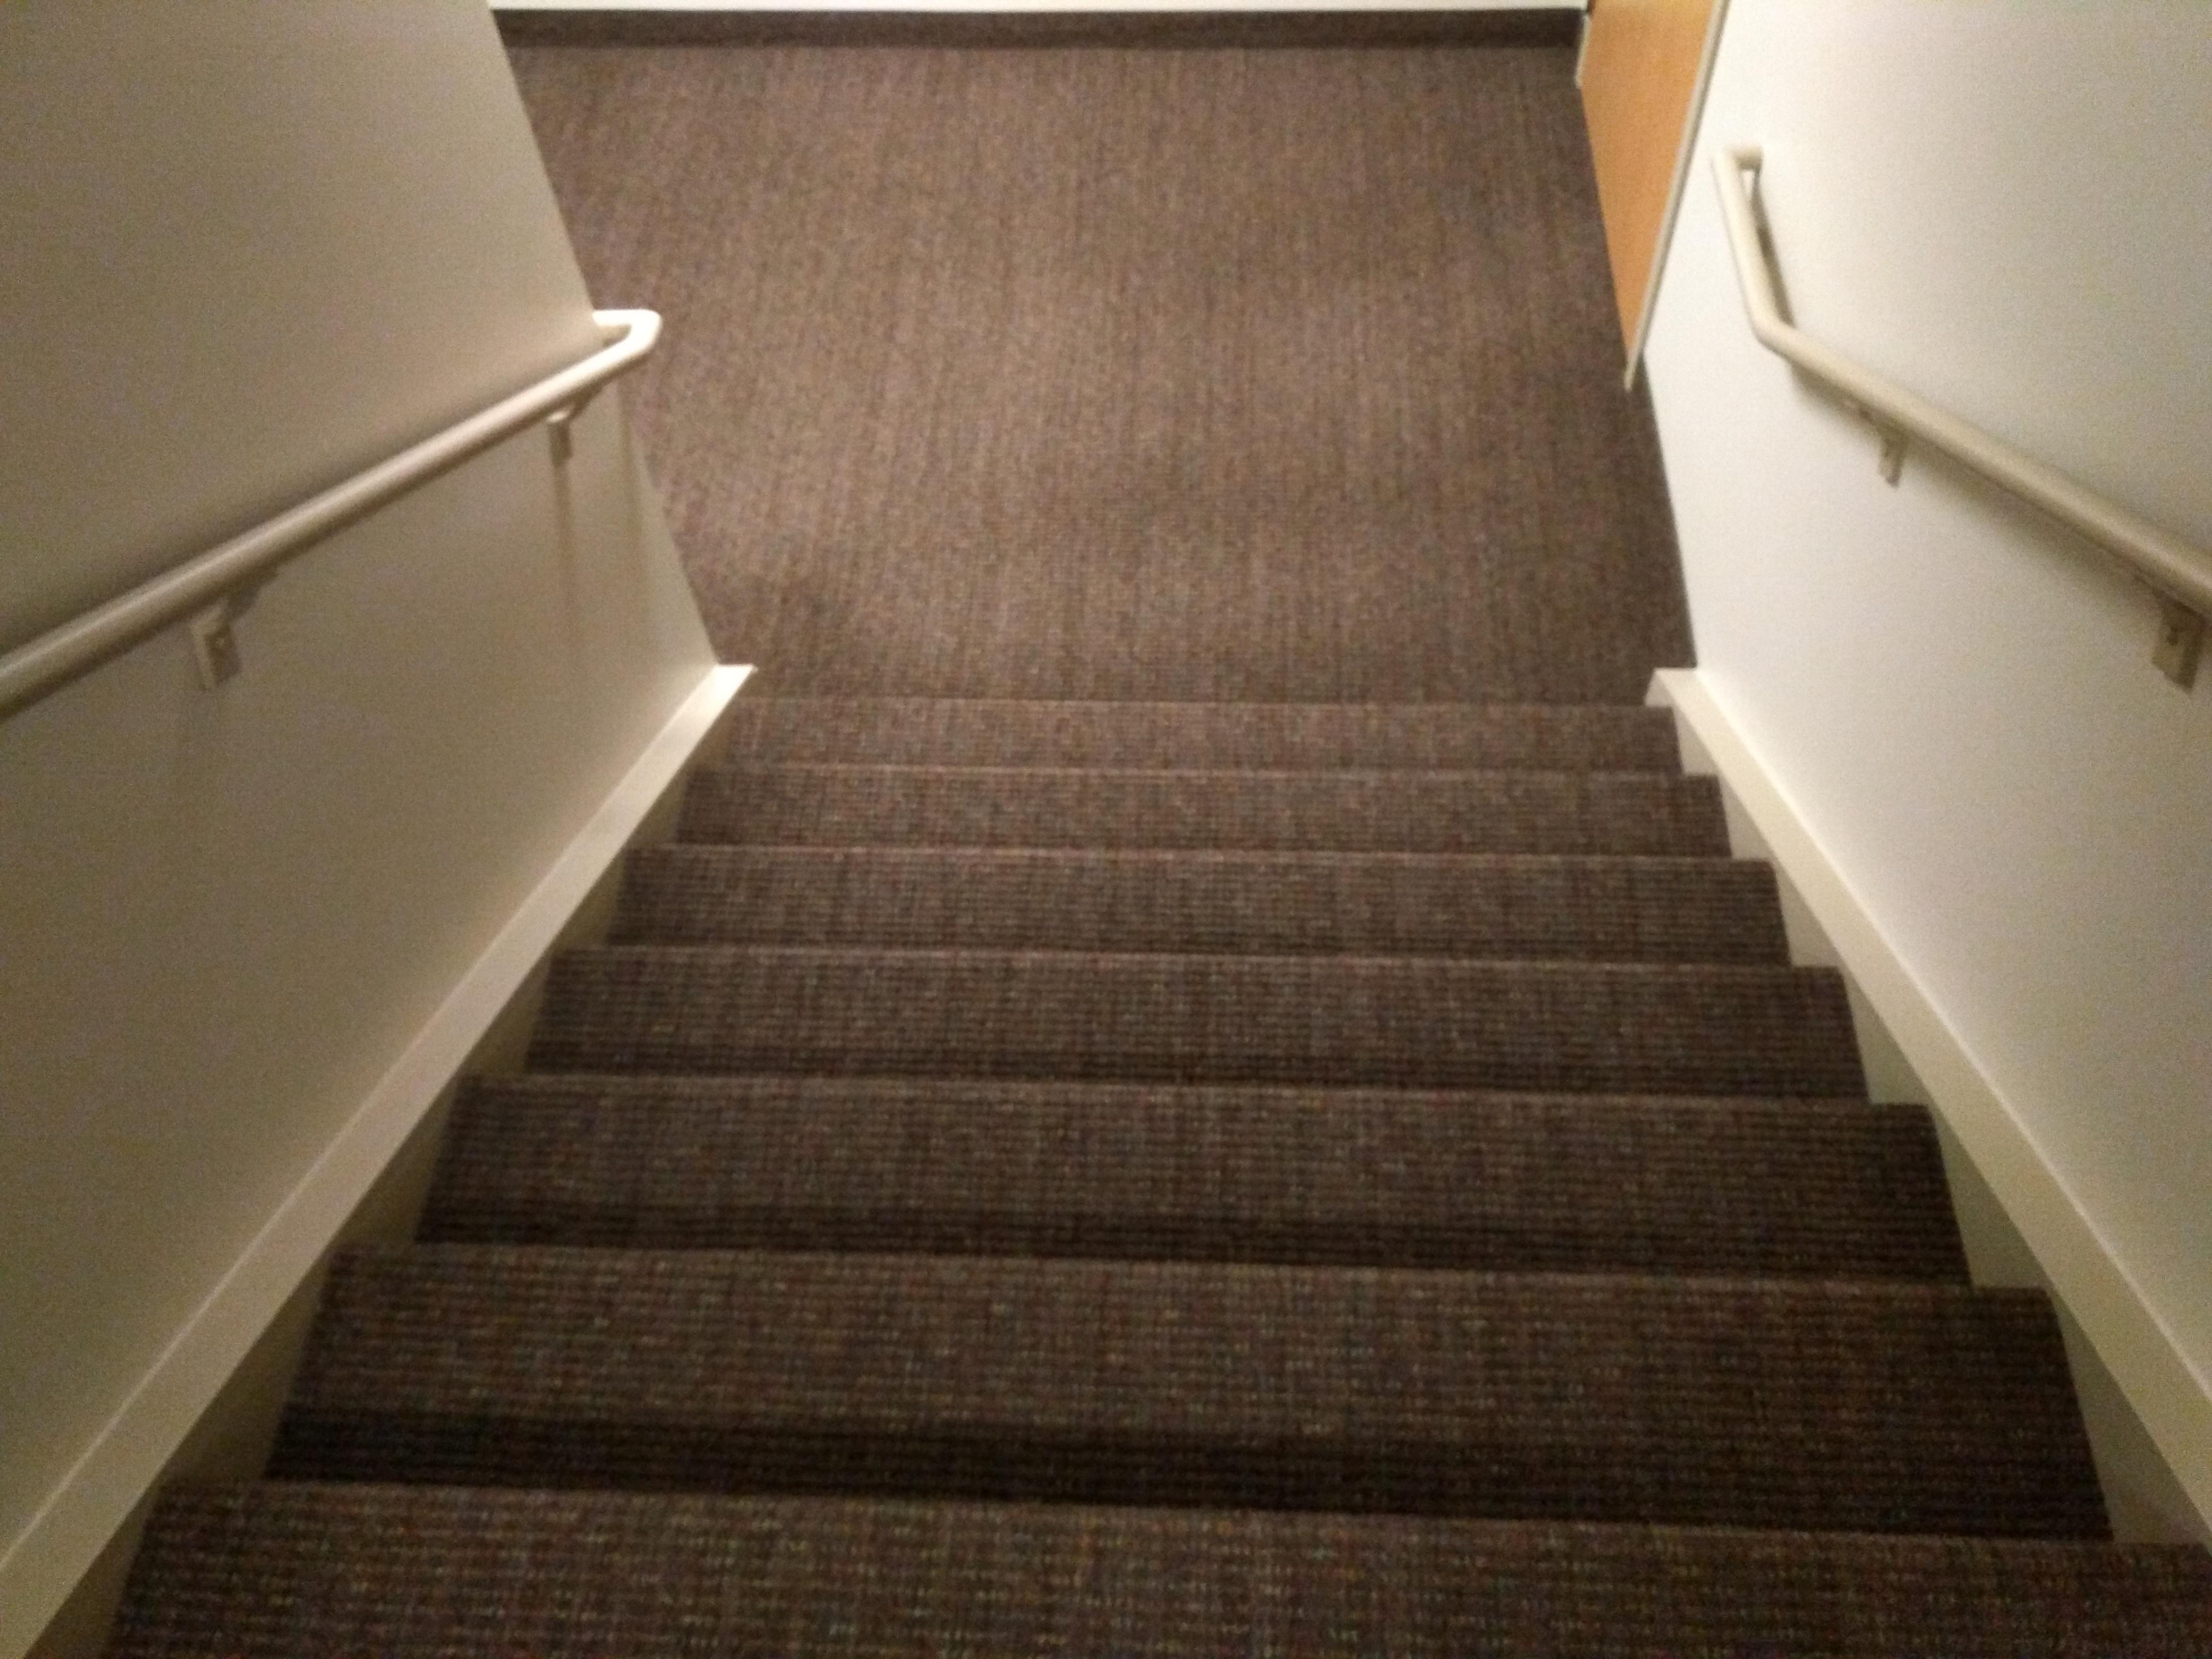stairs_down: (202, 589, 2186, 1596)
